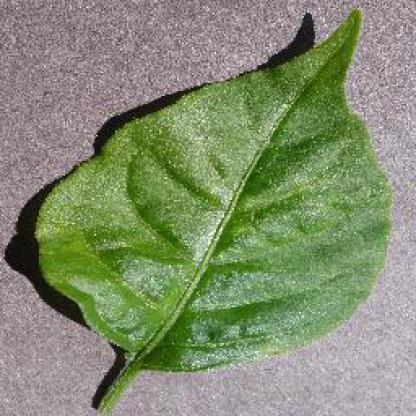good leaf: (91, 103, 350, 330)
